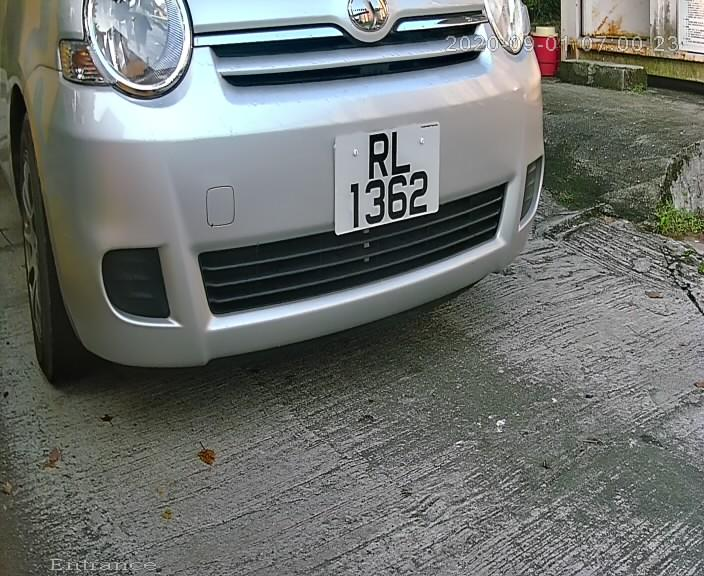Car: (7, 3, 566, 412)
License Plate: (331, 114, 450, 247)
